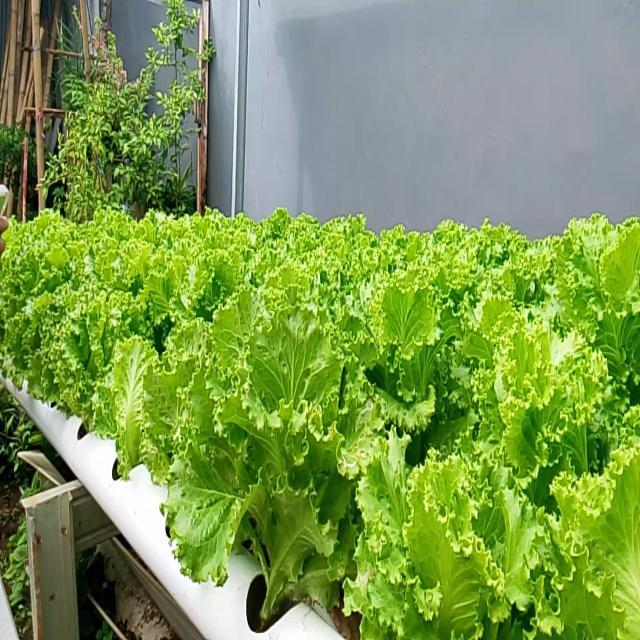Mature: (0, 210, 640, 639), (165, 325, 357, 620), (4, 255, 146, 469)
